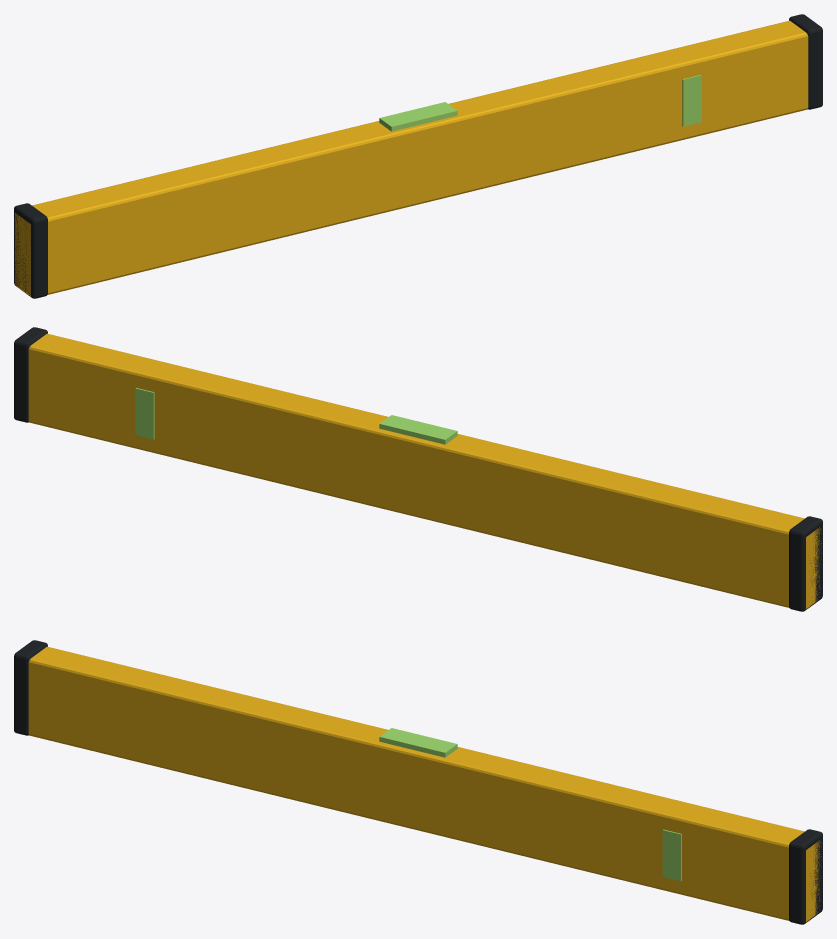
Rendered from spirit_level.gltf.
The picture shows the model from 3 angles, top to bottom: view 1: azimuth 30°, elevation 25°; view 2: azimuth 150°, elevation 25°; view 3: azimuth 330°, elevation 25°; orthographic projection.
Visible parts, largest first — view 1: spirit_level; view 2: spirit_level; view 3: spirit_level.
Part boxes in pixels (x1=…): spirit_level: x1=14, y1=14, x2=822, y2=298; spirit_level: x1=14, y1=327, x2=822, y2=611; spirit_level: x1=14, y1=640, x2=822, y2=924.
Size of the model in its own units: 0.6 by 0.0595 by 0.027.
